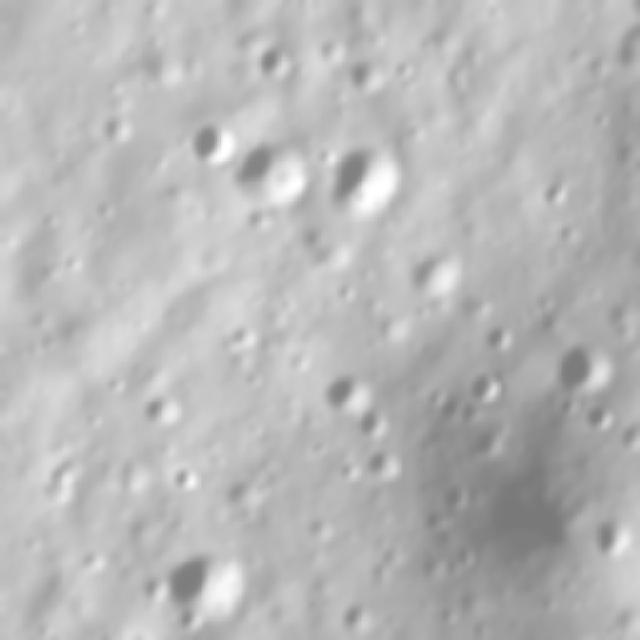crater: (456, 459, 590, 593), (157, 548, 263, 630), (328, 131, 410, 218), (235, 133, 318, 210), (552, 335, 619, 396), (398, 247, 467, 305), (317, 354, 377, 417), (184, 110, 245, 168), (137, 386, 192, 432), (590, 512, 636, 562), (475, 314, 523, 355), (96, 107, 142, 148), (465, 365, 507, 409), (254, 42, 301, 78), (364, 442, 404, 483), (335, 594, 377, 632), (576, 398, 621, 433), (345, 54, 386, 92), (356, 400, 393, 442), (222, 318, 260, 358), (532, 175, 570, 214), (167, 458, 204, 497), (316, 31, 352, 64), (612, 413, 640, 453), (75, 545, 114, 572), (545, 631, 627, 640), (110, 631, 184, 640)
